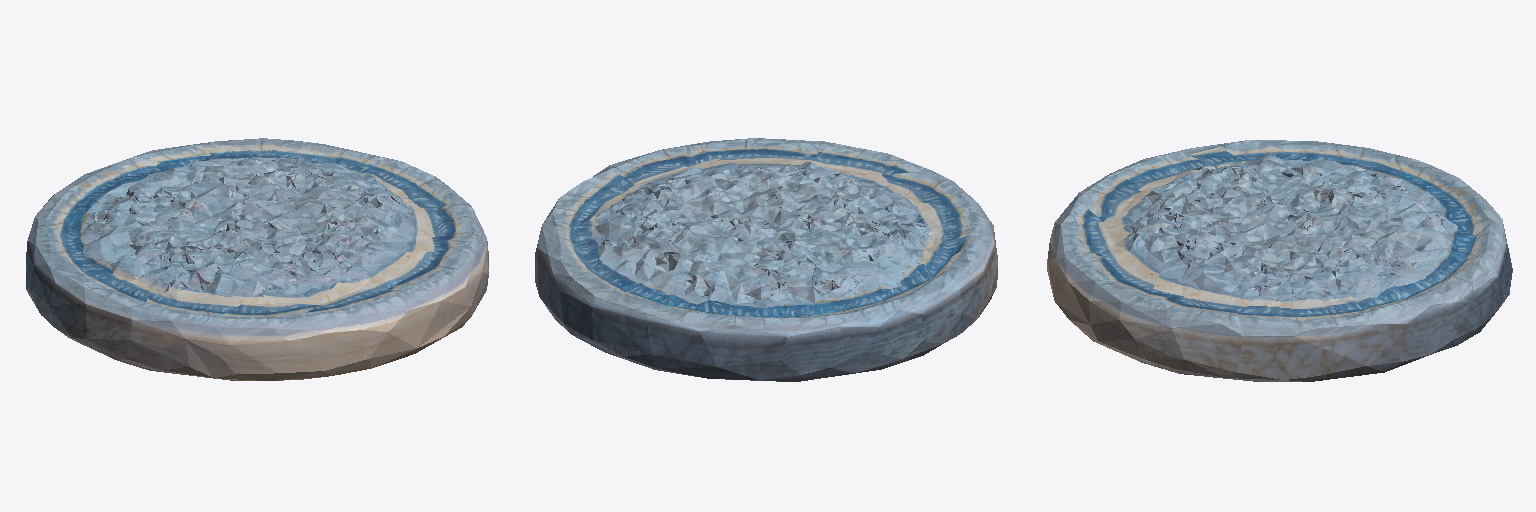
3 views of the same model, side by side, from view 1: azimuth 30°, elevation 25°; view 2: azimuth 150°, elevation 25°; view 3: azimuth 270°, elevation 25° (orthographic).
Parts seen in each view (by area): view 1: Mesh_0; view 2: Mesh_0; view 3: Mesh_0.
Part boxes in pixels (bbox=[...]): Mesh_0: bbox=[26, 138, 488, 380]; Mesh_0: bbox=[535, 138, 997, 381]; Mesh_0: bbox=[1047, 140, 1512, 381].
Size of the model in its own units: 1.19 by 0.2554 by 1.2.
1 materials, 1 textured.